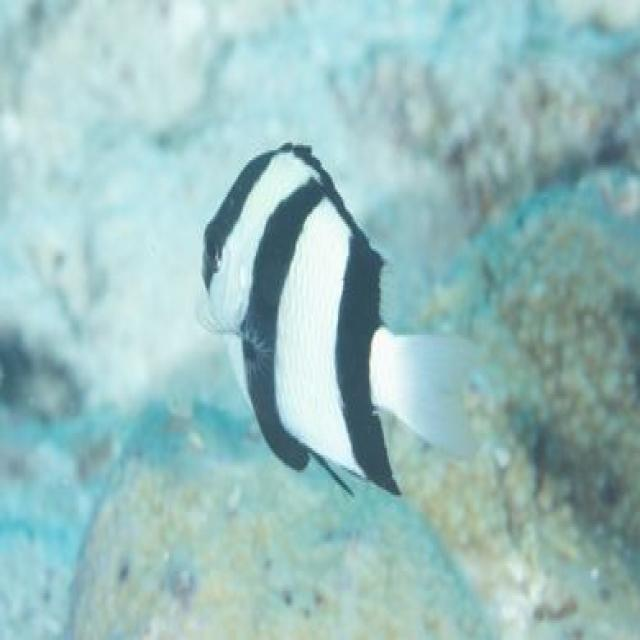Three_striped DasmselFish: (192, 145, 477, 504)
